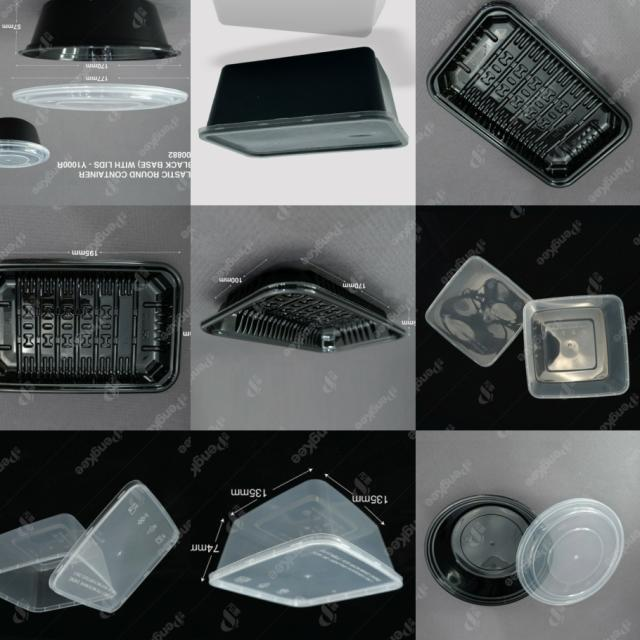plastik: (427, 3, 631, 187), (209, 479, 403, 607), (0, 261, 183, 393), (199, 48, 409, 158), (49, 480, 179, 612), (202, 271, 405, 352), (424, 497, 554, 605), (426, 257, 539, 367), (517, 499, 625, 605), (0, 514, 116, 612), (523, 294, 629, 397), (20, 0, 180, 62), (12, 83, 187, 111), (0, 117, 50, 168)
